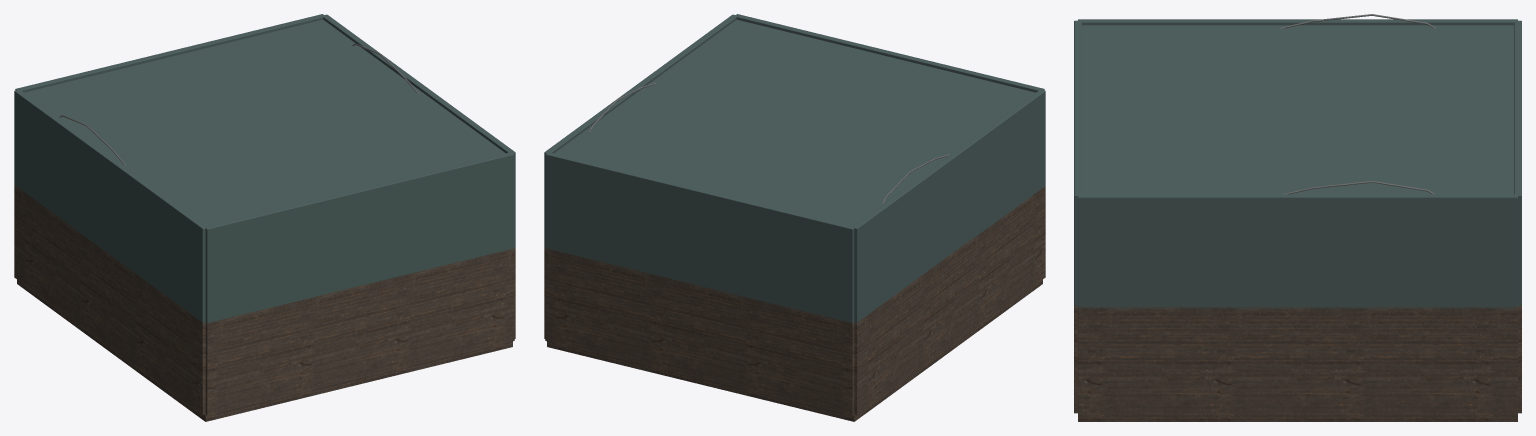
File: laboratory.glb
3 views of the same model, side by side, from view 1: azimuth 30°, elevation 25°; view 2: azimuth 150°, elevation 25°; view 3: azimuth 270°, elevation 25° (orthographic). The views are drawn at different scales.
Parts seen in each view (by area): view 1: Hedy_static_architecture_and_props; view 2: Hedy_static_architecture_and_props; view 3: Hedy_static_architecture_and_props.
Part boxes in pixels (box(x1,y1,x2,y2)): Hedy_static_architecture_and_props: box(14, 14, 515, 421); Hedy_static_architecture_and_props: box(544, 14, 1045, 421); Hedy_static_architecture_and_props: box(1074, 14, 1521, 421).
Bounding box in the file's own units: 6.52 × 4.04 × 6.92.
Materials: 24 (15 with a texture image).
